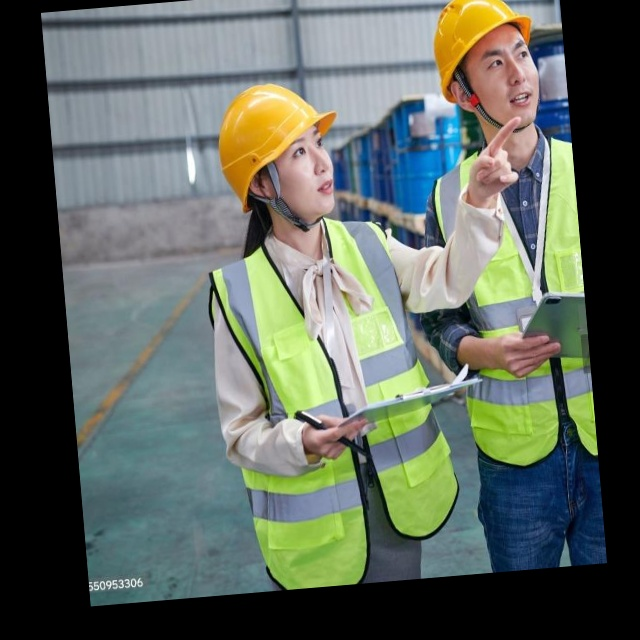Con_Casco: (212, 76, 349, 229)
Con_Chaleco: (212, 219, 465, 563), (430, 142, 598, 463)
